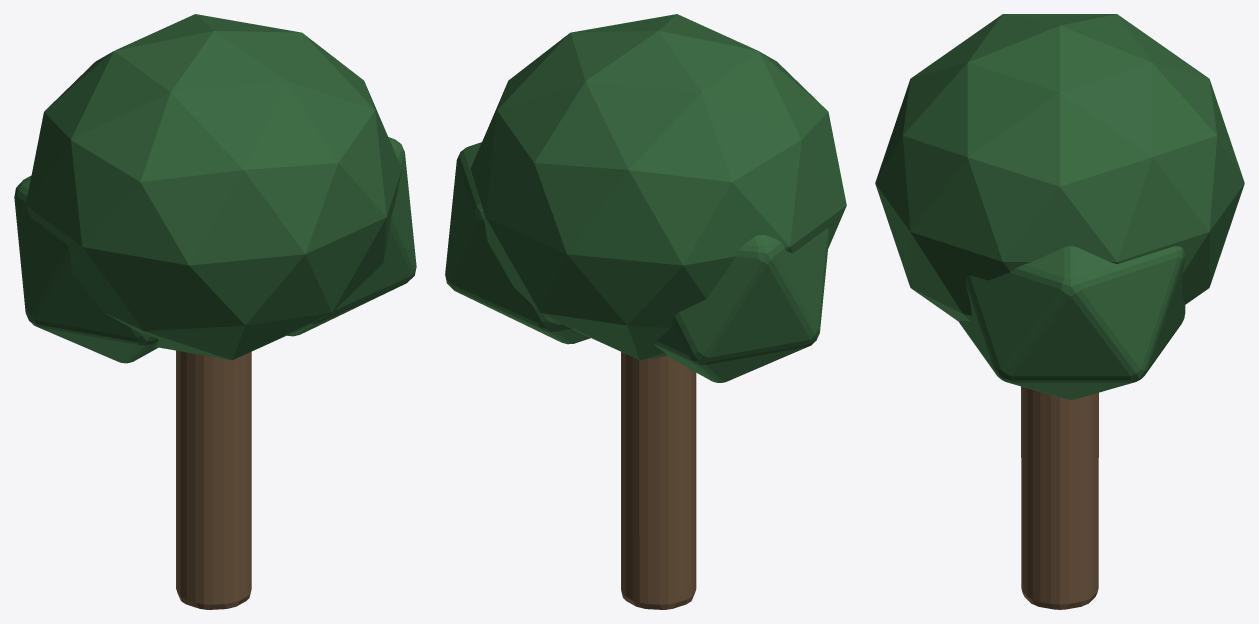
File: world_tree.glb
The picture shows the model from 3 angles, left to right: view 1: azimuth 30°, elevation 25°; view 2: azimuth 150°, elevation 25°; view 3: azimuth 270°, elevation 25°; orthographic projection.
Parts seen in each view (by area): view 1: CrownA, Trunk, CrownC, CrownB; view 2: CrownA, Trunk, CrownC, CrownB; view 3: CrownA, CrownB, Trunk.
Part boxes in pixels (left/top/right/bottom): CrownA: left=25, top=14, right=401, bottom=360; Trunk: left=176, top=350, right=251, bottom=609; CrownC: left=14, top=175, right=158, bottom=363; CrownB: left=287, top=137, right=416, bottom=336; CrownA: left=470, top=14, right=846, bottom=360; Trunk: left=621, top=352, right=696, bottom=609; CrownC: left=654, top=228, right=829, bottom=382; CrownB: left=445, top=142, right=590, bottom=344; CrownA: left=875, top=14, right=1244, bottom=321; CrownB: left=959, top=246, right=1185, bottom=399; Trunk: left=1021, top=386, right=1098, bottom=609.
Size of the model in its own units: 0.7866 by 1.16 by 0.68.
